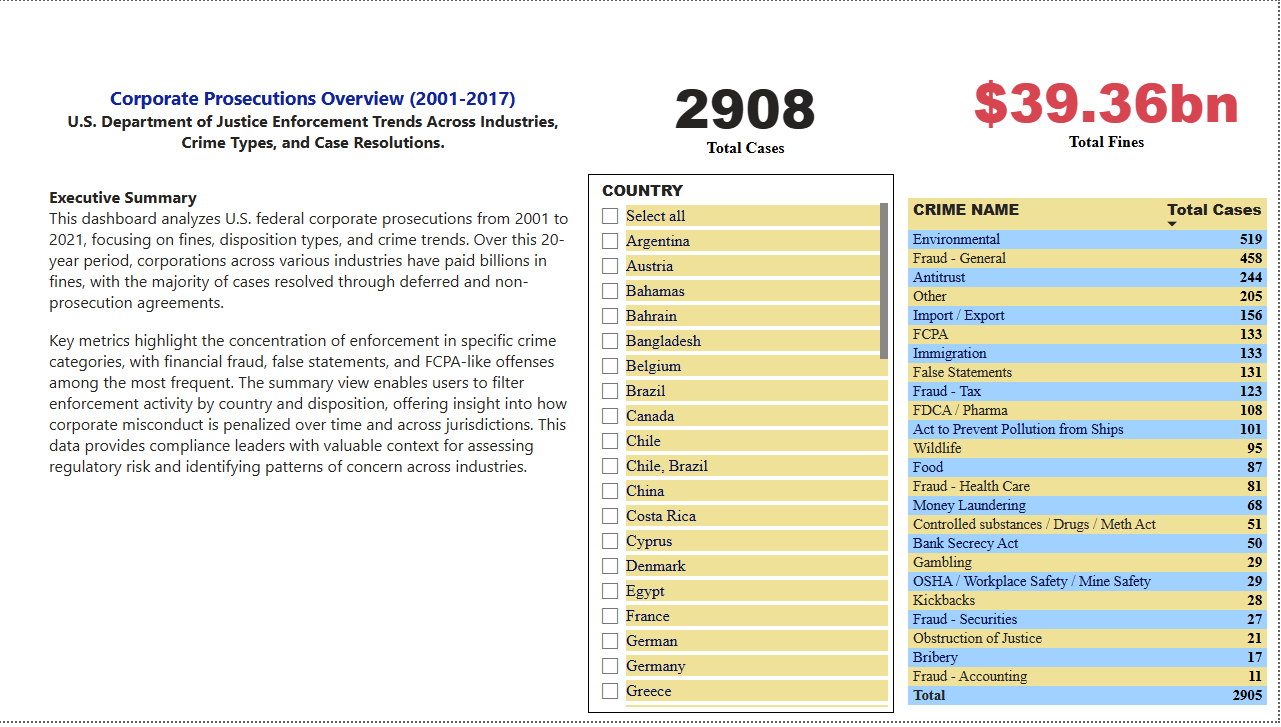

This screenshot's page, from the dashboard's own definition file:
{"tool":"powerbi","page":{"name":"Page 1: Executive Summary","canvas":[1280,720],"ordinal":0},"visuals":[{"type":"card","title":"Total Fines (US$)","fields":{"Values":["cpr-data.Total Fines"]},"box":[959,57.4,298.6,98.2],"z":0},{"type":"pivotTable","fields":{"Values":["cpr-data.Total Cases"],"Rows":["cpr-data.CRIME NAME"]},"box":[905.5,192.6,374.5,519.4],"z":1000},{"type":"slicer","fields":{"Values":["cpr-data.COUNTRY"]},"box":[590.4,173.1,305.4,538.8],"z":2000},{"type":"card","fields":{"Values":["cpr-data.Total Cases"]},"box":[621.5,64.2,251.9,98.2],"z":3000},{"type":"textbox","box":[45.7,78.8,537.9,424.1],"z":4000}]}

Visuals, with their boxes in screenshot pixels (x1, y1, x2, y2), scaled from the page's 1280x720 canvas onto the 1281x727 screenshot:
"Total Fines (US$)" card: {"left": 960, "top": 58, "right": 1259, "bottom": 157}
pivotTable - cpr-data.Total Cases x cpr-data.CRIME NAME: {"left": 906, "top": 194, "right": 1280, "bottom": 719}
slicer - cpr-data.COUNTRY: {"left": 591, "top": 175, "right": 896, "bottom": 719}
card - cpr-data.Total Cases: {"left": 622, "top": 65, "right": 874, "bottom": 164}
textbox: {"left": 46, "top": 80, "right": 584, "bottom": 508}
